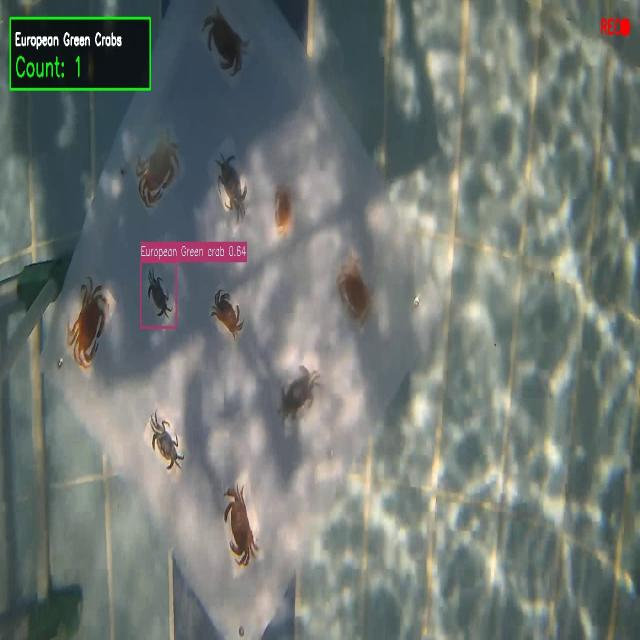European_Green_Crab: (207, 137, 255, 231), (272, 352, 324, 437), (142, 407, 191, 479), (140, 263, 176, 326)
